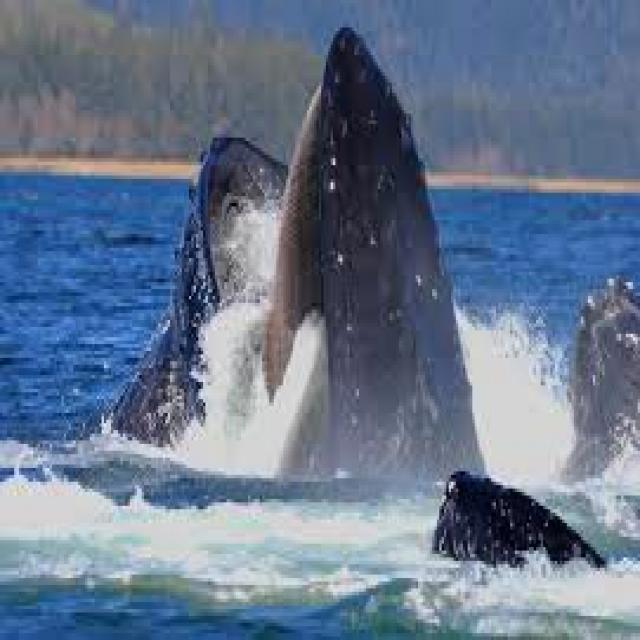whale: (111, 28, 602, 564), (562, 275, 638, 475)
